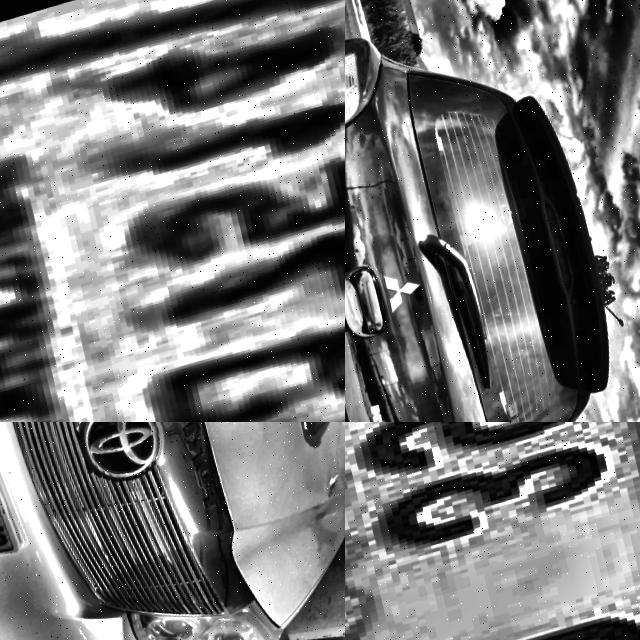license-plate: (0, 0, 345, 422), (345, 422, 640, 640)
